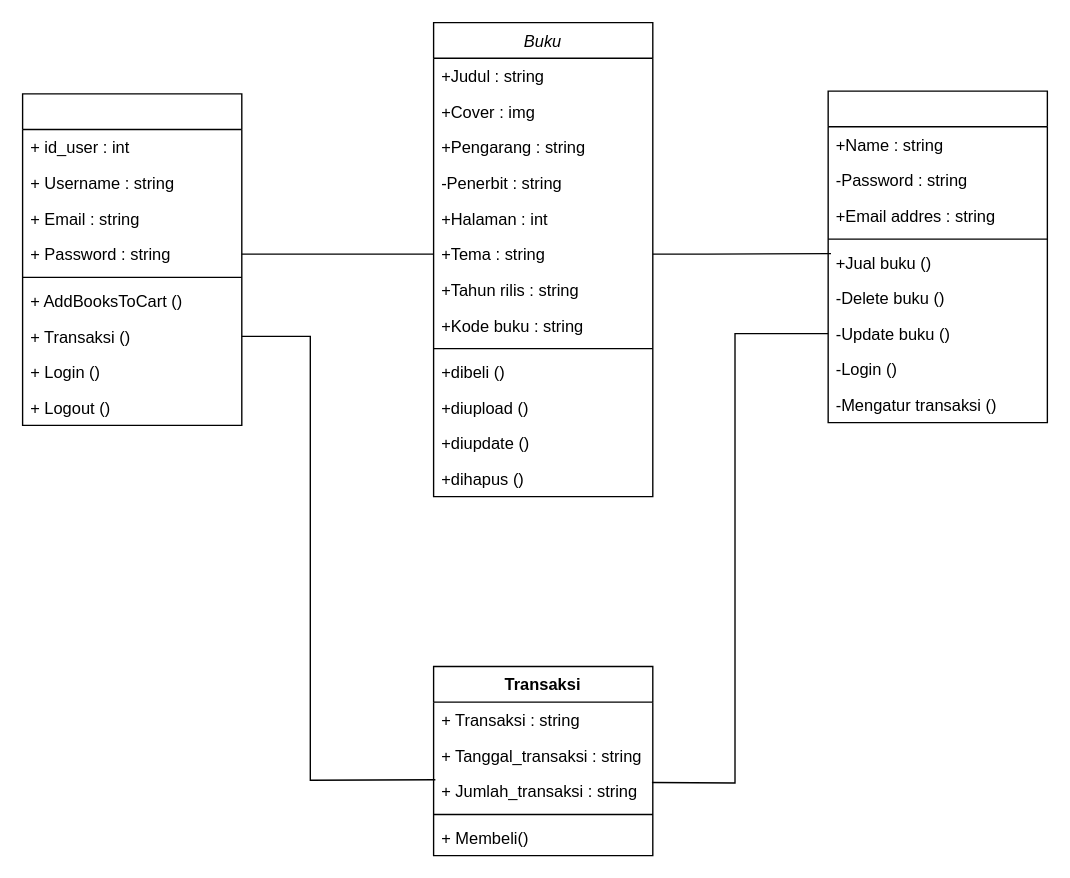
This 1070x878 diagram has some shape labels left out. The box of each missing label's shape, as (x1, y1, x2, y2) in pixels:
Admin: (827, 90, 1047, 423)
Pembeli: (21, 92, 242, 425)
